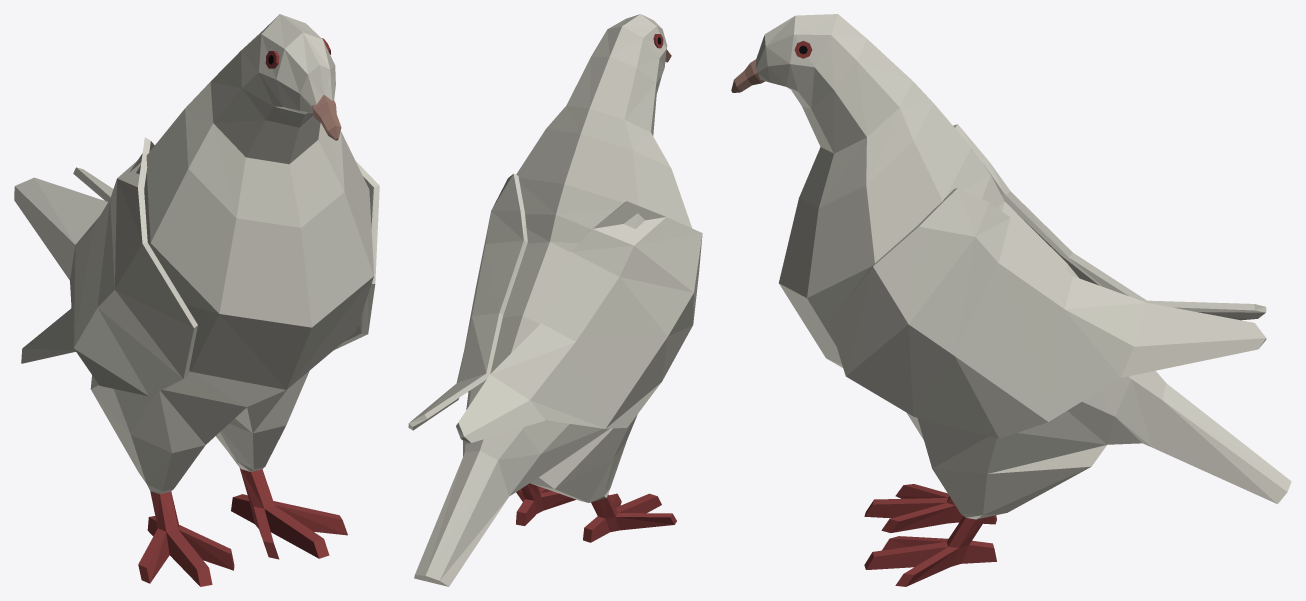
The model's file is dove.glb.
The picture shows the model from 3 angles, left to right: view 1: azimuth 30°, elevation 25°; view 2: azimuth 150°, elevation 25°; view 3: azimuth 270°, elevation 25°; orthographic projection. The views are drawn at different scales.
Visible parts, largest first — view 1: dove; view 2: dove; view 3: dove.
Part boxes in pixels (x1,y1,x2,y2): dove: (14,14,379,586); dove: (408,14,702,586); dove: (731,14,1291,586).
Bounding box in the file's own units: 44.83 × 95.74 × 92.27.
